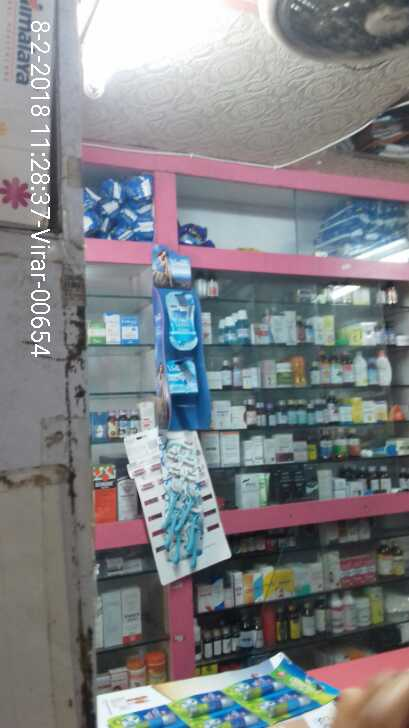venus: (166, 286, 199, 345), (164, 353, 200, 395)
